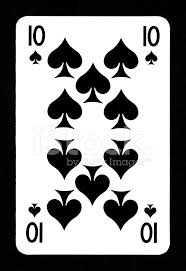ten of spades: (14, 15, 170, 253)
